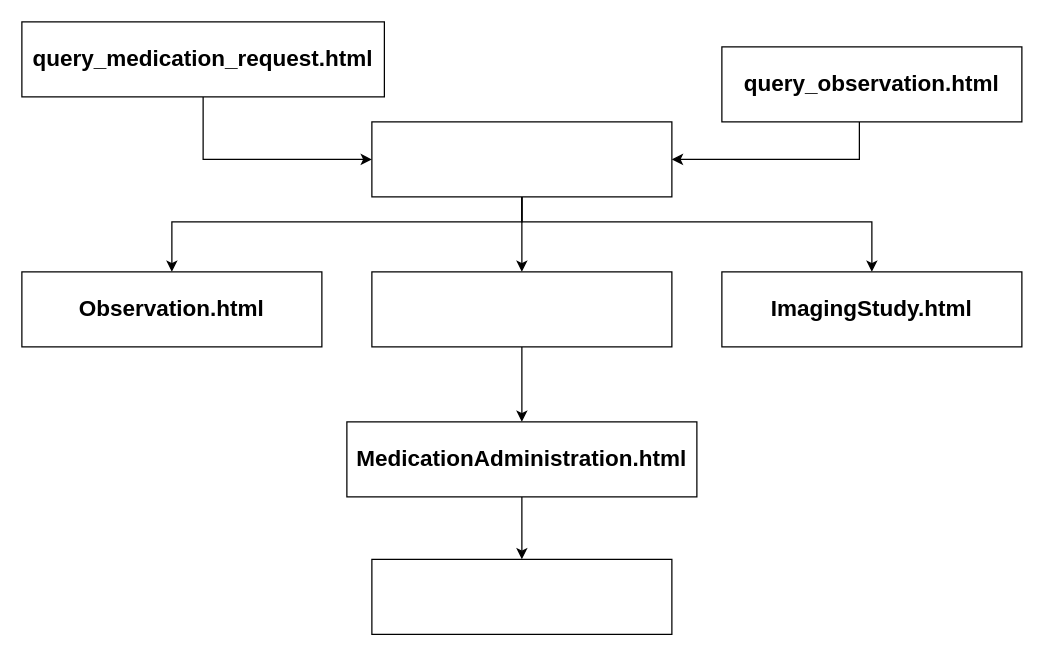
Image size: 1044x656. Some labels were removed from this diagram. The centre of each missing label's shape, as x and y in pixels:
Medication.html: the point at 521,596
MedicationRequest.html: the point at 521,309
query_patient_PHR.html: the point at 521,159
